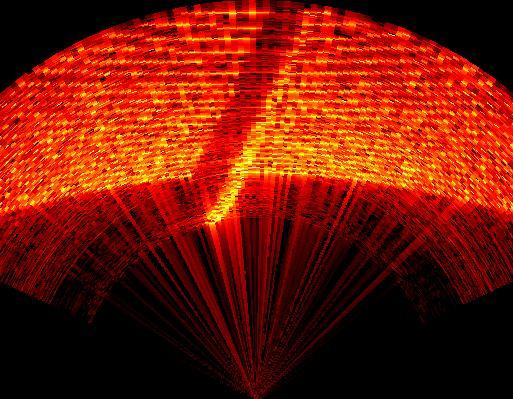pipe: (170, 1, 316, 217)
